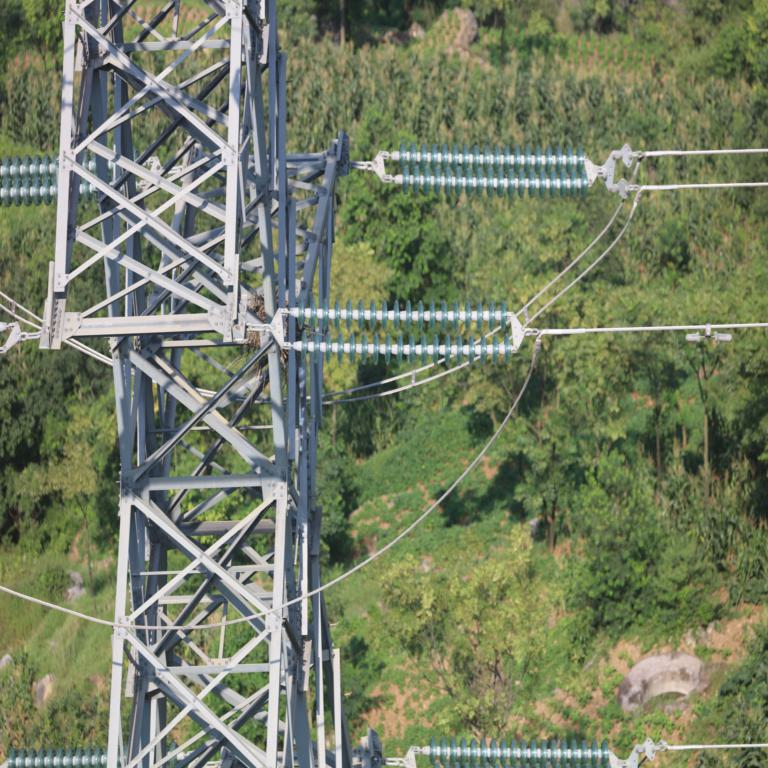nest: (244, 297, 281, 363)
